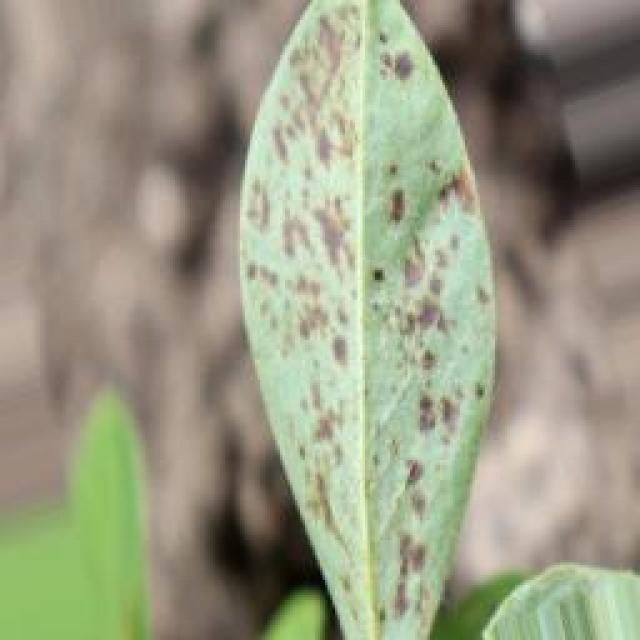Whitefly: (200, 0, 523, 640)
